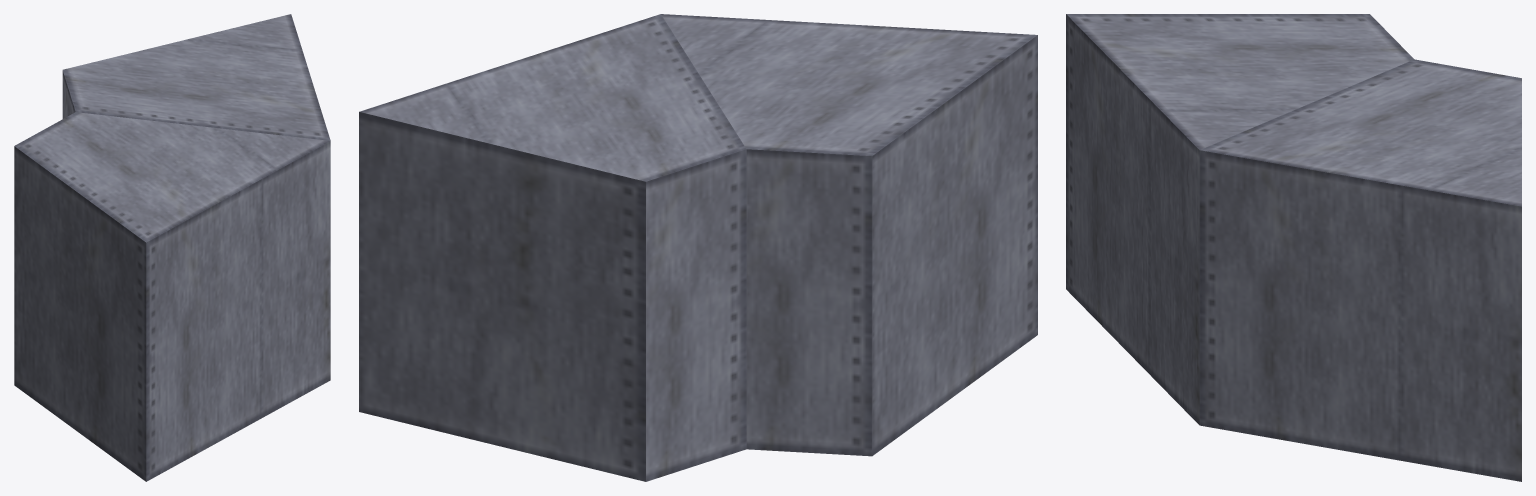
File: mAirDuctCurve90.01.obj
The picture shows the model from 3 angles, left to right: view 1: azimuth 30°, elevation 25°; view 2: azimuth 150°, elevation 25°; view 3: azimuth 270°, elevation 25°; orthographic projection. The views are drawn at different scales.
Visible parts, largest first — view 1: AirDuctCurve90.01; view 2: AirDuctCurve90.01; view 3: AirDuctCurve90.01.
Boxes of the visible parts, x1=… form: AirDuctCurve90.01: x1=14, y1=14, x2=330, y2=481; AirDuctCurve90.01: x1=359, y1=14, x2=1037, y2=481; AirDuctCurve90.01: x1=1066, y1=14, x2=1521, y2=481.
Bounding box in the file's own units: 3 × 2 × 3.
